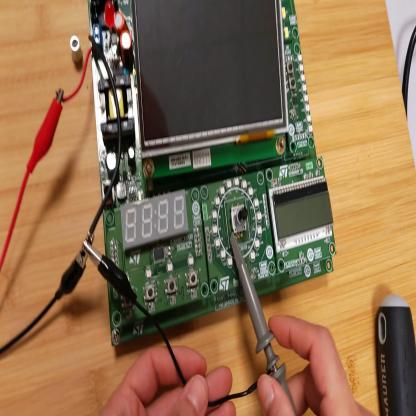hand: (256, 317, 376, 415), (103, 341, 234, 414)
low voltage board: (63, 2, 337, 350)
oscilloscope probe tip: (229, 232, 297, 416)
screwdriver-: (378, 290, 416, 414)
working area: (2, 3, 415, 414)
